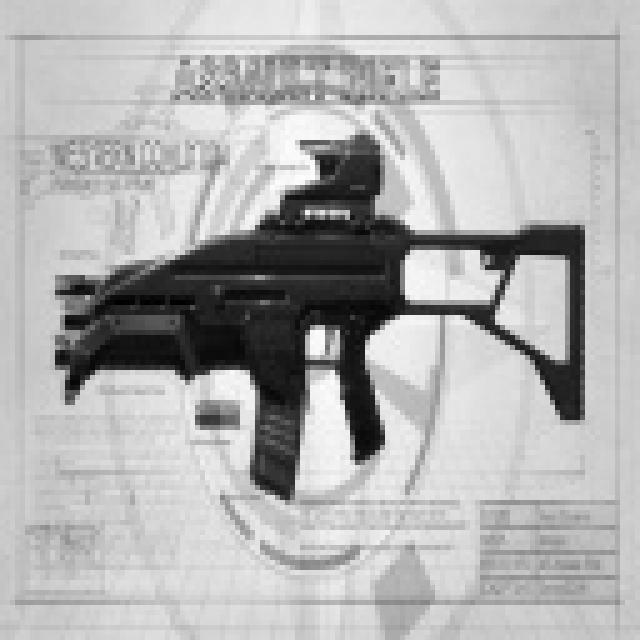Rifle: (0, 110, 621, 511)
